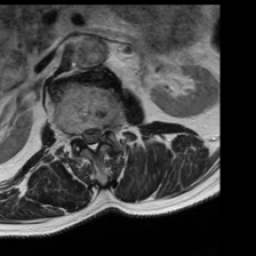CCS_normal: (89, 121, 96, 160)
LFS_stenosis: (104, 117, 112, 139)
LLS_severe_stenosis: (96, 121, 104, 148)
RFS_stenosis: (74, 123, 81, 148)
RLS_stenosis: (81, 123, 89, 151)
